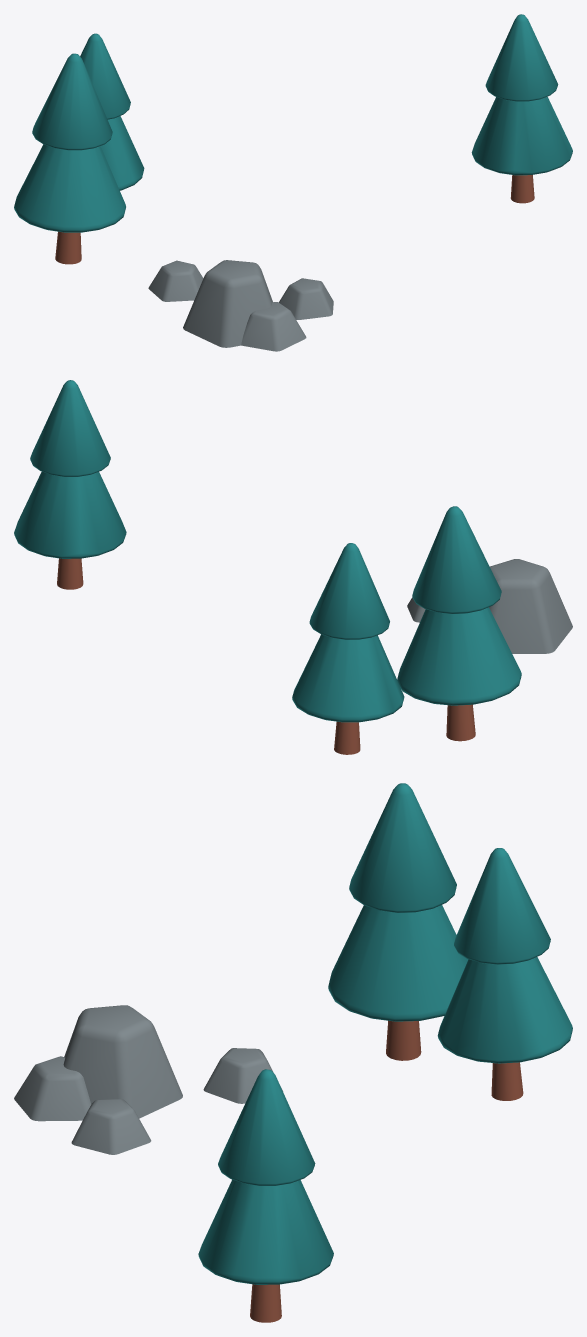
Rendered from detail_forestb.glb.
3 views of the same model, one above another, from view 1: azimuth 30°, elevation 25°; view 2: azimuth 150°, elevation 25°; view 3: azimuth 270°, elevation 25° (orthographic). The views are drawn at different scales.
Parts seen in each view (by area): view 1: detail_forestB; view 2: detail_forestB; view 3: detail_forestB.
Part boxes in pixels (<box>): detail_forestB: <box>14,14,572,351</box>; detail_forestB: <box>14,380,572,754</box>; detail_forestB: <box>14,783,572,1322</box>.
Size of the model in its own units: 7.41 by 2.96 by 5.44.
